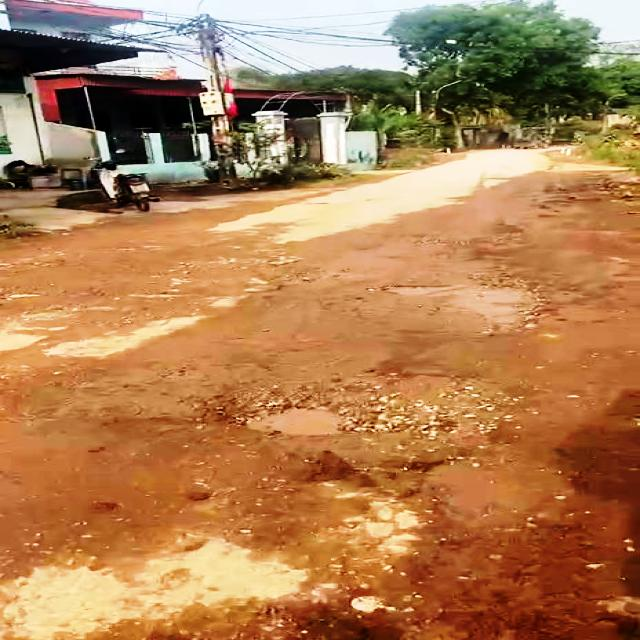pothole: (210, 372, 508, 442), (361, 454, 582, 523), (382, 276, 552, 334), (0, 286, 66, 316)
